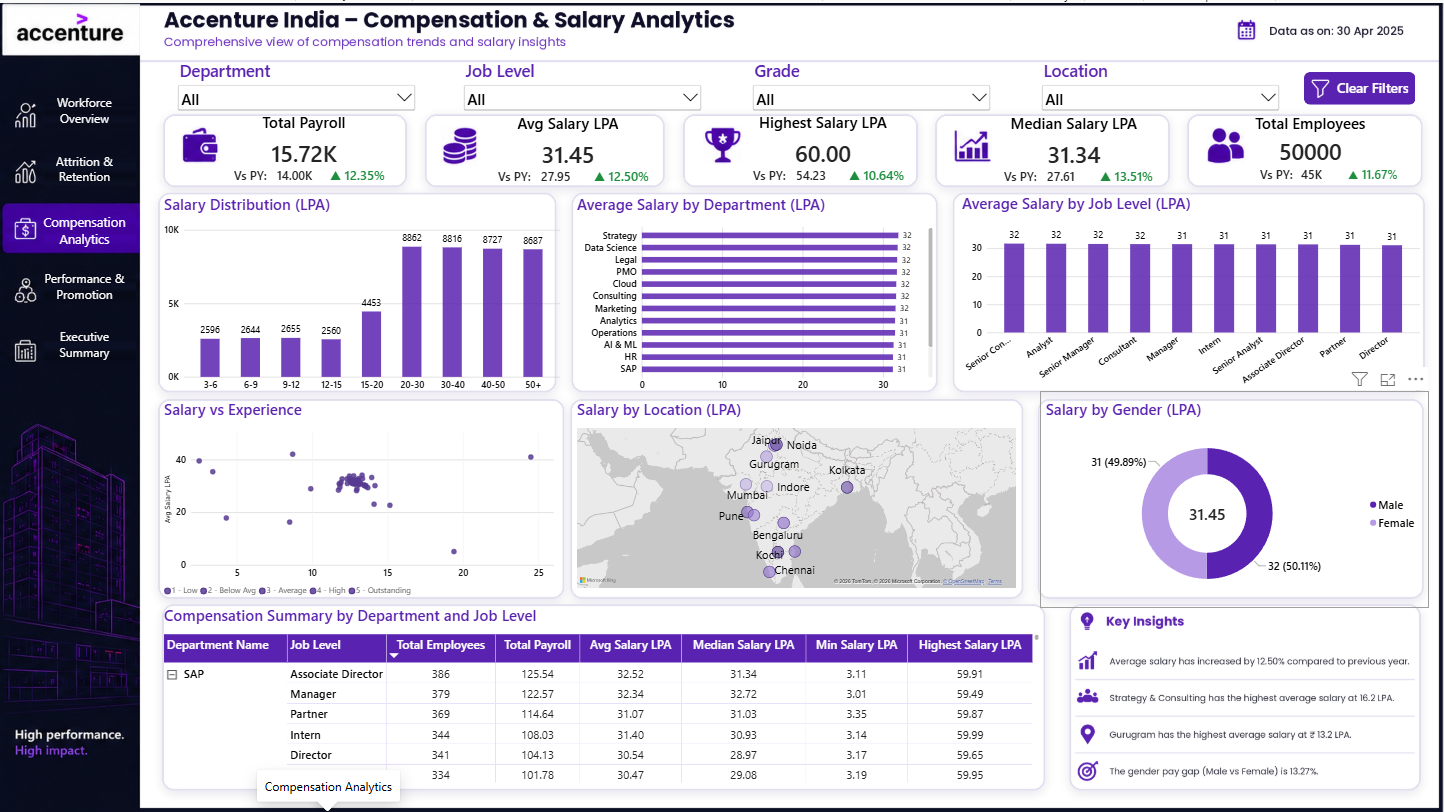

This screenshot's page, from the dashboard's own definition file:
{"tool":"powerbi","page":{"name":"Compensation Analytics","canvas":[2560,1440],"ordinal":2},"visuals":[{"type":"slicer","fields":{"Values":["Dim Department.Department Name"]},"box":[309.7,100.4,431.2,103.4],"z":0,"group":"g6"},{"type":"group","id":"g1","title":"2nd KPI","box":[372.1,189.1,334.6,133],"z":0},{"type":"group","id":"g2","title":"Side-KPI","box":[414.5,286.9,286.7,35.8],"z":0,"group":"g1"},{"type":"group","id":"g3","title":"Side-KPI","box":[1335.2,286.9,286.7,35.8],"z":0,"group":"g9"},{"type":"textbox","box":[2235,288.3,71,29.1],"z":0,"group":"g7"},{"type":"group","id":"g4","title":"Side-KPI","box":[882.1,289,286.7,35.8],"z":0,"group":"g8"},{"type":"group","id":"g5","title":"Side-KPI","box":[1780.1,289,286.7,35.8],"z":0,"group":"g10"},{"type":"textbox","box":[414.5,291.2,78.3,28.7],"z":0,"group":"g2"},{"type":"textbox","box":[1335.2,291.2,78.3,28.7],"z":0,"group":"g3"},{"type":"textbox","box":[882.1,293.3,78.3,28.7],"z":0,"group":"g4"},{"type":"textbox","box":[1780.1,293.3,78.3,28.7],"z":0,"group":"g5"},{"type":"group","id":"g6","title":"Slicers","box":[309.7,99.8,1964.2,103.9],"z":1000},{"type":"slicer","fields":{"Values":["Dim Job Level.Job Level"]},"box":[816.3,99.8,431.2,99.2],"z":1000,"group":"g6"},{"type":"cardVisual","fields":{"Data":["Measures_3.Total Payroll"]},"box":[372.1,189.1,333.7,107.2],"z":1000,"group":"g1"},{"type":"cardVisual","fields":{"Data":["Measures_3.Highest Salary LPA"]},"box":[1292.8,189.1,333.7,107.2],"z":1000,"group":"g9"},{"type":"cardVisual","fields":{"Data":["Measures_1.Avg Salary LPA"]},"box":[839.7,191.2,333.7,107.2],"z":1000,"group":"g8"},{"type":"cardVisual","fields":{"Data":["Measures_3.Median Salary LPA"]},"box":[1737.7,191.2,333.7,107.2],"z":1000,"group":"g10"},{"type":"group","id":"g7","title":"Side-KPI","box":[2235,284.4,259.8,35.3],"z":1000,"group":"g11"},{"type":"cardVisual","fields":{"Data":["Measures_1.Total Employees PY"]},"box":[2291.1,284.4,72.9,36.9],"z":1000,"group":"g7"},{"type":"cardVisual","fields":{"Data":["Measures_3.Total Payroll PY"]},"box":[475.5,286.9,115.8,35.8],"z":1000,"group":"g2"},{"type":"cardVisual","fields":{"Data":["Measures_3.Highest Salary LPA PY"]},"box":[1396.2,286.9,115.8,35.8],"z":1000,"group":"g3"},{"type":"cardVisual","fields":{"Data":["Measures_3.Avg Salary LPA PY"]},"box":[943.1,289,115.8,35.8],"z":1000,"group":"g4"},{"type":"cardVisual","fields":{"Data":["Measures_3.Median Salary LPA PY"]},"box":[1841.1,289,115.8,35.8],"z":1000,"group":"g5"},{"type":"slicer","fields":{"Values":["Dim Job Level.Grade"]},"box":[1329.5,99.8,431.2,99.5],"z":2000,"group":"g6"},{"type":"actionButton","box":[2312.5,122.5,197.5,58.2],"z":2000},{"type":"cardVisual","fields":{"Data":["Measures_1.Total Employees"]},"box":[2186.8,187.3,274,108.7],"z":2000,"group":"g11"},{"type":"cardVisual","title":"%","fields":{"Data":["Measures_1.Employees Growth Label"]},"box":[2375,284.4,120,34.9],"z":2000,"group":"g7"},{"type":"cardVisual","title":"%","fields":{"Data":["Measures_3.Payroll Growth Label"]},"box":[568.9,287.3,132.3,34.4],"z":2000,"group":"g2"},{"type":"cardVisual","title":"%","fields":{"Data":["Measures_3.Highest Growth Label"]},"box":[1489.6,287.3,132.3,34.4],"z":2000,"group":"g3"},{"type":"cardVisual","title":"%","fields":{"Data":["Measures_3.Avg Salary Growth Label"]},"box":[1036.5,289.4,132.3,34.4],"z":2000,"group":"g4"},{"type":"cardVisual","title":"%","fields":{"Data":["Measures_3.Median Growth Label"]},"box":[1934.5,289.4,132.3,34.4],"z":2000,"group":"g5"},{"type":"slicer","fields":{"Values":["Dim Location.City"]},"box":[1842.7,99.8,431.2,99.5],"z":3000,"group":"g6"},{"type":"image","box":[2322.5,135,37.5,35],"z":3000},{"type":"group","id":"g8","title":"2nd KPI","box":[839.7,191.2,334.6,133],"z":4000},{"type":"group","id":"g9","title":"2nd KPI","box":[1292.8,189.1,334.6,133],"z":5000},{"type":"group","id":"g10","title":"2nd KPI","box":[1737.7,191.2,334.6,133],"z":6000},{"type":"group","id":"g11","title":"2nd KPI","box":[2186.8,187.3,308.1,132.5],"z":7000},{"type":"columnChart","title":"Salary Distribution (LPA)","fields":{"Category":["Fact Workforce.Salary Band"],"Y":["Measures_3.Workforce Count"]},"box":[274.4,324.3,733.7,384.5],"z":8000},{"type":"barChart","title":"Average Salary by Department (LPA)","fields":{"Category":["Dim Department.Department Name"],"Y":["Measures_1.Avg Salary LPA"]},"box":[1008.1,324.3,663.1,384.5],"z":9000},{"type":"columnChart","title":"Average Salary by Job Level (LPA)","fields":{"Category":["Dim Job Level.Job Level"],"Y":["Measures_1.Avg Salary LPA"]},"box":[1689.8,322.2,843.9,384.5],"z":10000},{"type":"scatterChart","title":"Salary vs Experience","fields":{"Category":["Dim Department.Department ID"],"Series":["Dim Employee.Rating Label"],"X":["Measures_1.Avg Experience"],"Y":["Measures_1.Avg Salary LPA"]},"box":[274.4,688,731.6,384.5],"z":11000},{"type":"map","title":"Salary by Location (LPA)","fields":{"Category":["Dim Location.City"],"Size":["Measures_1.Avg Salary LPA"]},"box":[1008.1,688,810.6,365.8],"z":12000},{"type":"donutChart","title":"Salary by Gender (LPA)","fields":{"Category":["Dim Employee.Gender"],"Y":["Measures_1.Avg Salary LPA"]},"box":[1843.7,688,690.1,384.5],"z":13000},{"type":"pivotTable","title":"Compensation Summary by Department and Job Level","fields":{"Rows":["Dim Department.Department Name","Dim Job Level.Job Level"],"Values":["Measures_1.Total Employees","Measures_3.Total Payroll","Measures_1.Avg Salary LPA","Measures_3.Median Salary LPA","Measures_3.Min Salary LPA","Measures_3.Highest Salary LPA"]},"box":[274.4,1053.8,1583.8,345],"z":14000},{"type":"image","box":[1857.5,1058,702.5,345],"z":15000},{"type":"pageNavigator","box":[54,130.9,193.3,532.1],"z":15001}]}

Visuals, with their boxes on the page's 2560x1440 design canvas (x1, y1, x2, y2). These are canvas units, not pixel positions in the 1444x812 screenshot, which may show the page scaled, cropped or inside an application window:
slicer - Dim Department.Department Name: [310,100,741,204]
"2nd KPI" group: [372,189,707,322]
"Side-KPI" group: [414,287,701,323]
"Side-KPI" group: [1335,287,1622,323]
textbox: [2235,288,2306,317]
"Side-KPI" group: [882,289,1169,325]
"Side-KPI" group: [1780,289,2067,325]
textbox: [414,291,493,320]
textbox: [1335,291,1414,320]
textbox: [882,293,960,322]
textbox: [1780,293,1858,322]
"Slicers" group: [310,100,2274,204]
slicer - Dim Job Level.Job Level: [816,100,1248,199]
cardVisual - Measures_3.Total Payroll: [372,189,706,296]
cardVisual - Measures_3.Highest Salary LPA: [1293,189,1626,296]
cardVisual - Measures_1.Avg Salary LPA: [840,191,1173,298]
cardVisual - Measures_3.Median Salary LPA: [1738,191,2071,298]
"Side-KPI" group: [2235,284,2495,320]
cardVisual - Measures_1.Total Employees PY: [2291,284,2364,321]
cardVisual - Measures_3.Total Payroll PY: [476,287,591,323]
cardVisual - Measures_3.Highest Salary LPA PY: [1396,287,1512,323]
cardVisual - Measures_3.Avg Salary LPA PY: [943,289,1059,325]
cardVisual - Measures_3.Median Salary LPA PY: [1841,289,1957,325]
slicer - Dim Job Level.Grade: [1330,100,1761,199]
actionButton: [2312,122,2510,181]
cardVisual - Measures_1.Total Employees: [2187,187,2461,296]
"%" cardVisual: [2375,284,2495,319]
"%" cardVisual: [569,287,701,322]
"%" cardVisual: [1490,287,1622,322]
"%" cardVisual: [1036,289,1169,324]
"%" cardVisual: [1934,289,2067,324]
slicer - Dim Location.City: [1843,100,2274,199]
image: [2322,135,2360,170]
"2nd KPI" group: [840,191,1174,324]
"2nd KPI" group: [1293,189,1627,322]
"2nd KPI" group: [1738,191,2072,324]
"2nd KPI" group: [2187,187,2495,320]
"Salary Distribution (LPA)" columnChart: [274,324,1008,709]
"Average Salary by Department (LPA)" barChart: [1008,324,1671,709]
"Average Salary by Job Level (LPA)" columnChart: [1690,322,2534,707]
"Salary vs Experience" scatterChart: [274,688,1006,1072]
"Salary by Location (LPA)" map: [1008,688,1819,1054]
"Salary by Gender (LPA)" donutChart: [1844,688,2534,1072]
"Compensation Summary by Department and Job Level" pivotTable: [274,1054,1858,1399]
image: [1858,1058,2560,1403]
pageNavigator: [54,131,247,663]
